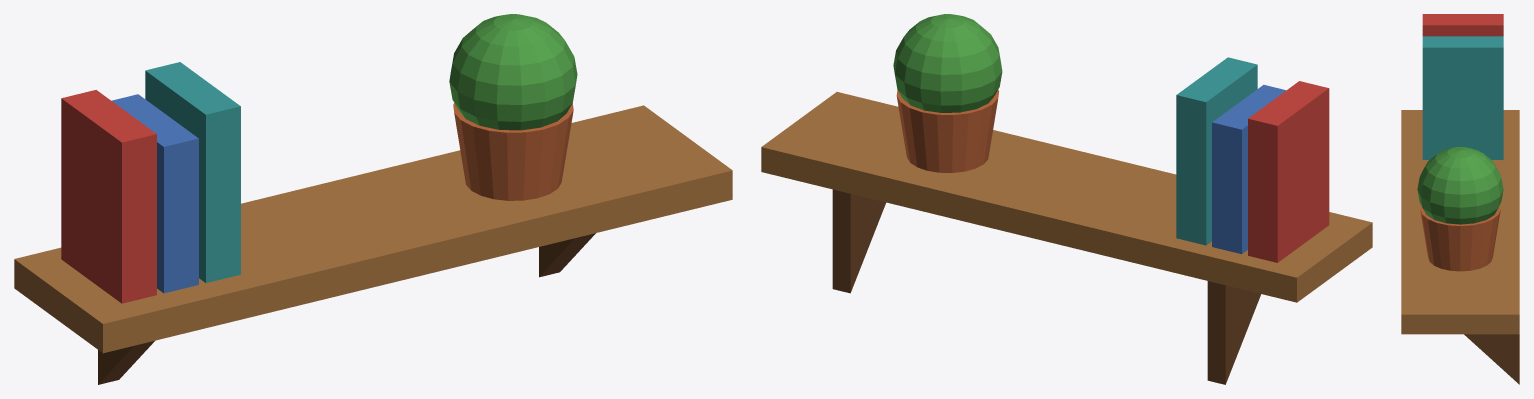
Rendered from wall_shelf.glb.
3 views of the same model, side by side, from view 1: azimuth 30°, elevation 25°; view 2: azimuth 150°, elevation 25°; view 3: azimuth 270°, elevation 25° (orthographic). The views are drawn at different scales.
Parts seen in each view (by area): view 1: Board, Book_0, Plant, Book_2, Book_1, Pot, Bracket_0, Bracket_1; view 2: Board, Book_0, Plant, Book_2, Book_1, Pot, Bracket_0, Bracket_1; view 3: Board, Book_2, Plant, Pot, Book_0, Bracket_1.
Part boxes in pixels (x1=…): Board: x1=14, y1=105, x2=732, y2=353; Book_0: x1=61, y1=90, x2=156, y2=303; Plant: x1=449, y1=14, x2=577, y2=130; Book_2: x1=145, y1=62, x2=240, y2=282; Book_1: x1=111, y1=94, x2=198, y2=293; Pot: x1=453, y1=103, x2=573, y2=200; Bracket_0: x1=98, y1=341, x2=154, y2=384; Bracket_1: x1=539, y1=233, x2=595, y2=277; Board: x1=761, y1=92, x2=1372, y2=302; Book_0: x1=1248, y1=81, x2=1329, y2=262; Plant: x1=893, y1=14, x2=1002, y2=112; Book_2: x1=1176, y1=57, x2=1257, y2=245; Book_1: x1=1212, y1=85, x2=1285, y2=254; Pot: x1=896, y1=90, x2=999, y2=172; Bracket_0: x1=1207, y1=281, x2=1261, y2=384; Bracket_1: x1=832, y1=189, x2=886, y2=293; Board: x1=1401, y1=110, x2=1519, y2=334; Book_2: x1=1422, y1=36, x2=1503, y2=159; Plant: x1=1417, y1=146, x2=1503, y2=224; Pot: x1=1420, y1=206, x2=1500, y2=271; Book_0: x1=1422, y1=14, x2=1503, y2=36; Bracket_1: x1=1464, y1=334, x2=1519, y2=384.
Bounding box in the file's own units: 0.9 × 0.43 × 0.22.
